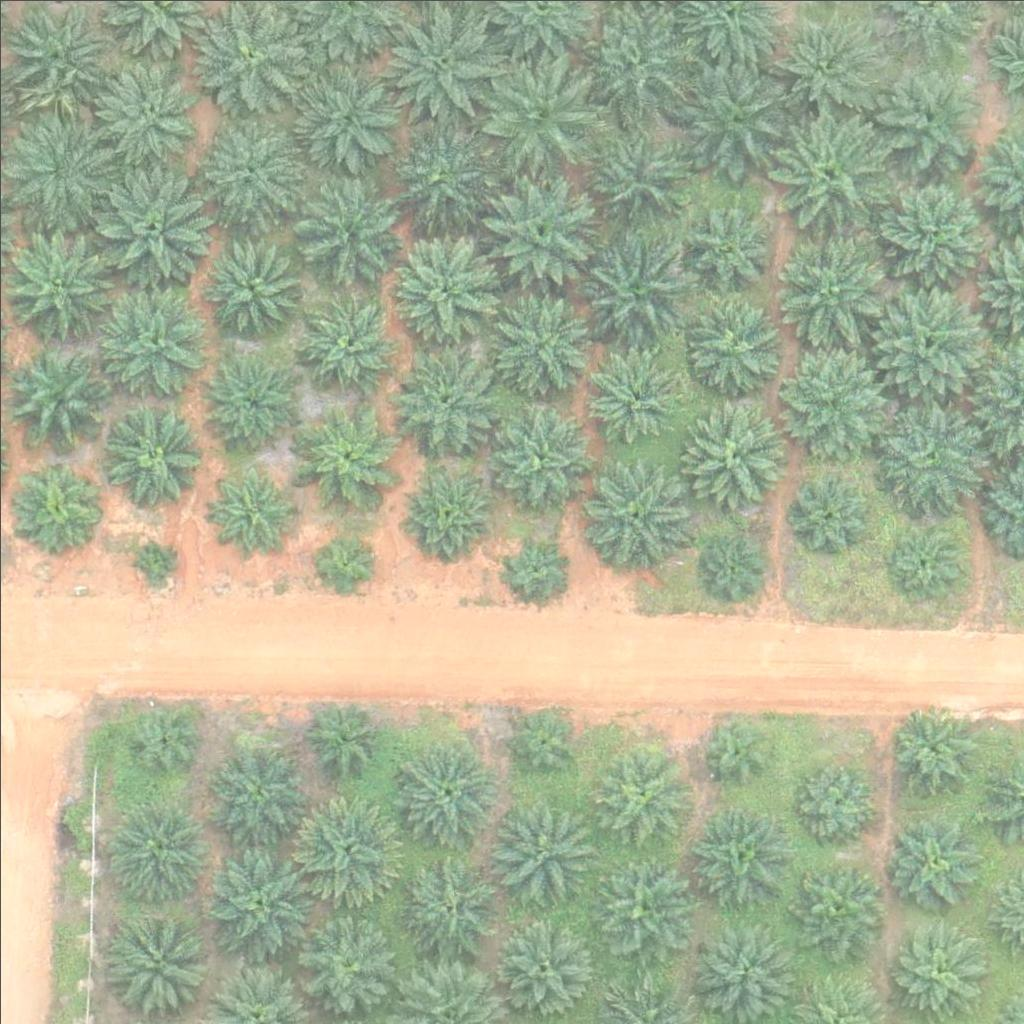Kelapa_Sawit: (867, 166, 992, 292), (766, 224, 891, 350), (767, 109, 892, 235), (671, 53, 796, 179), (575, 233, 700, 359), (576, 114, 701, 240), (475, 164, 600, 290), (477, 46, 602, 172), (92, 160, 217, 286), (379, 222, 504, 347), (1, 224, 114, 338), (201, 847, 314, 960), (875, 55, 988, 168), (775, 344, 888, 457), (873, 287, 985, 401), (768, 8, 880, 122), (289, 786, 401, 899), (878, 403, 990, 516), (96, 290, 208, 403), (93, 54, 205, 167), (3, 5, 115, 118), (207, 741, 307, 842), (398, 850, 498, 951), (394, 743, 494, 844), (491, 914, 591, 1015), (491, 805, 591, 906), (590, 856, 690, 957), (590, 744, 690, 845), (689, 802, 789, 903), (784, 858, 884, 959), (886, 917, 986, 1018), (683, 406, 783, 507), (684, 291, 784, 392), (581, 465, 681, 566), (587, 344, 687, 445), (490, 408, 590, 509), (490, 296, 590, 397), (395, 351, 495, 452), (387, 124, 487, 225), (293, 404, 393, 505), (298, 289, 398, 390), (297, 175, 397, 276), (293, 71, 393, 172), (201, 352, 301, 453), (199, 236, 299, 337), (202, 120, 302, 221), (109, 914, 209, 1014), (104, 800, 204, 900), (297, 911, 397, 1011), (883, 701, 983, 801), (677, 196, 777, 296), (101, 408, 201, 508), (6, 350, 106, 450), (790, 757, 878, 845), (208, 465, 296, 553), (886, 817, 973, 905), (397, 468, 484, 556), (10, 456, 97, 544), (886, 519, 961, 595), (123, 702, 198, 778), (697, 710, 772, 786), (789, 476, 864, 551), (305, 697, 380, 772), (501, 703, 576, 778), (700, 534, 763, 597), (501, 536, 563, 599), (315, 535, 377, 598), (133, 540, 170, 578)
